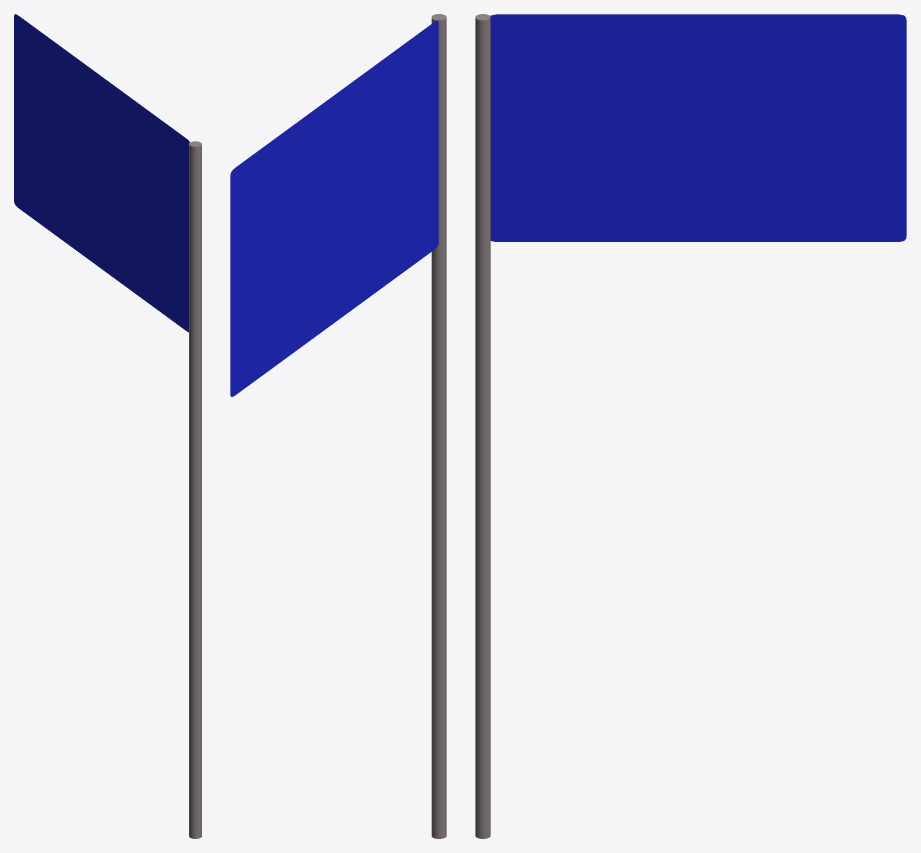
Rendered from Flag.fbx.
3 renders of one model, left to right at view 1: azimuth 30°, elevation 25°; view 2: azimuth 150°, elevation 25°; view 3: azimuth 270°, elevation 25°, orthographic. The views are drawn at different scales.
Parts seen in each view (by area): view 1: Plane, Cylinder; view 2: Plane, Cylinder; view 3: Plane, Cylinder.
Boxes of the visible parts, bbox=[...] form: Plane: bbox=[14, 14, 189, 332]; Cylinder: bbox=[189, 141, 201, 838]; Plane: bbox=[230, 20, 438, 396]; Cylinder: bbox=[431, 14, 446, 838]; Plane: bbox=[490, 14, 906, 241]; Cylinder: bbox=[475, 14, 490, 838].
Size of the model in its own units: 7.32 by 432 by 206.
